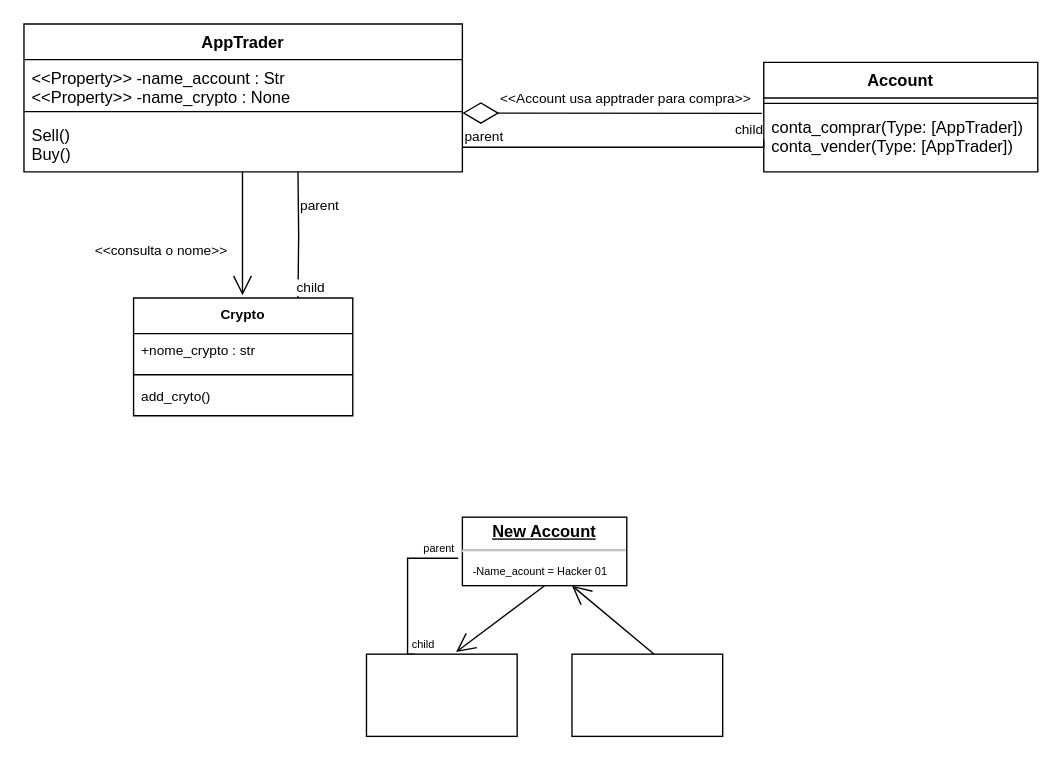
The diagram is 1062 pixels wide and 760 high, and some of its shapes have lost their labels. Here are the shapes that lost their labels. From the top down, the centre of each, then its label:
pixel 441 694: Account Account_buy() Account_sell()
pixel 647 694: Crypto +name_of_crypto Account_sell()
